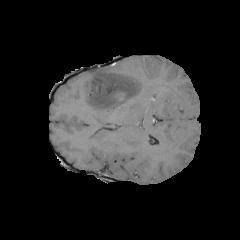glioma: (85, 67, 143, 123)
